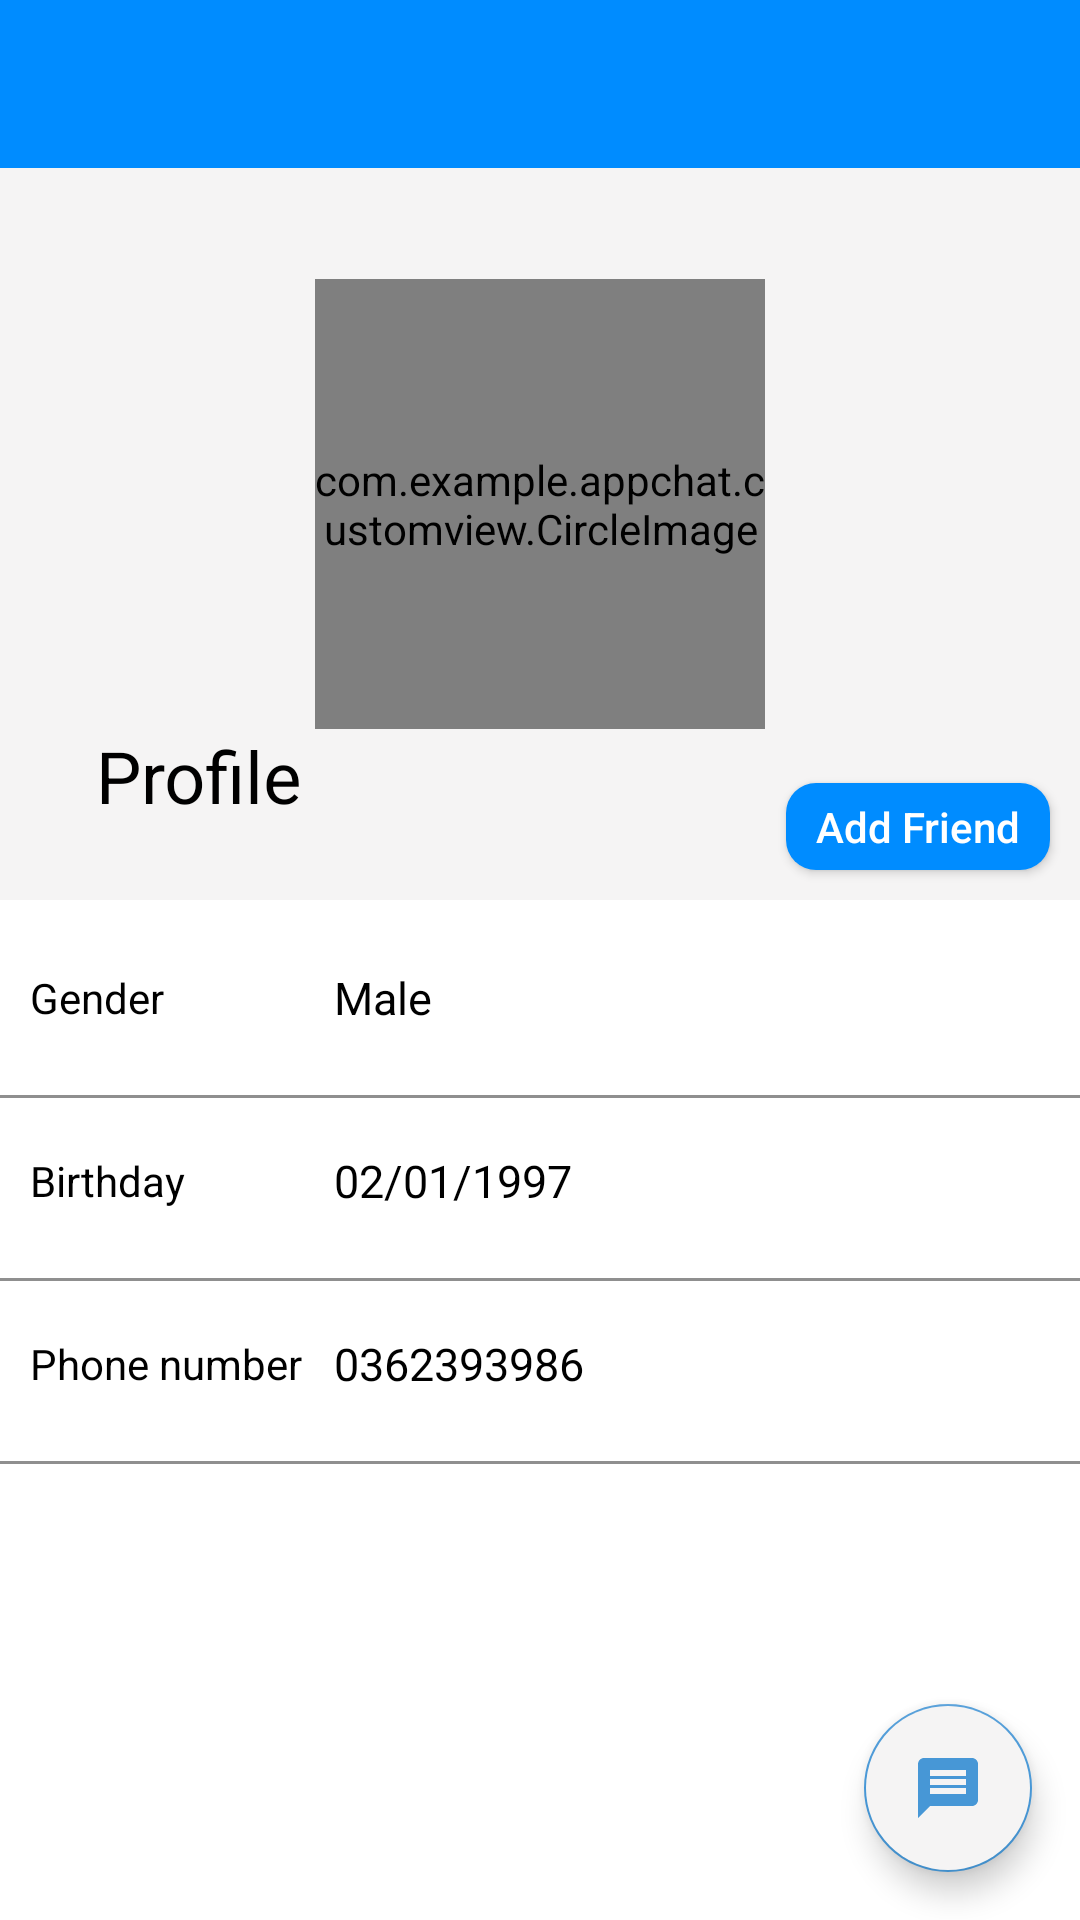

Icon click points for this 1080w x 1920h phone screenshot, format point (x, y):
message: point (948, 1788)
